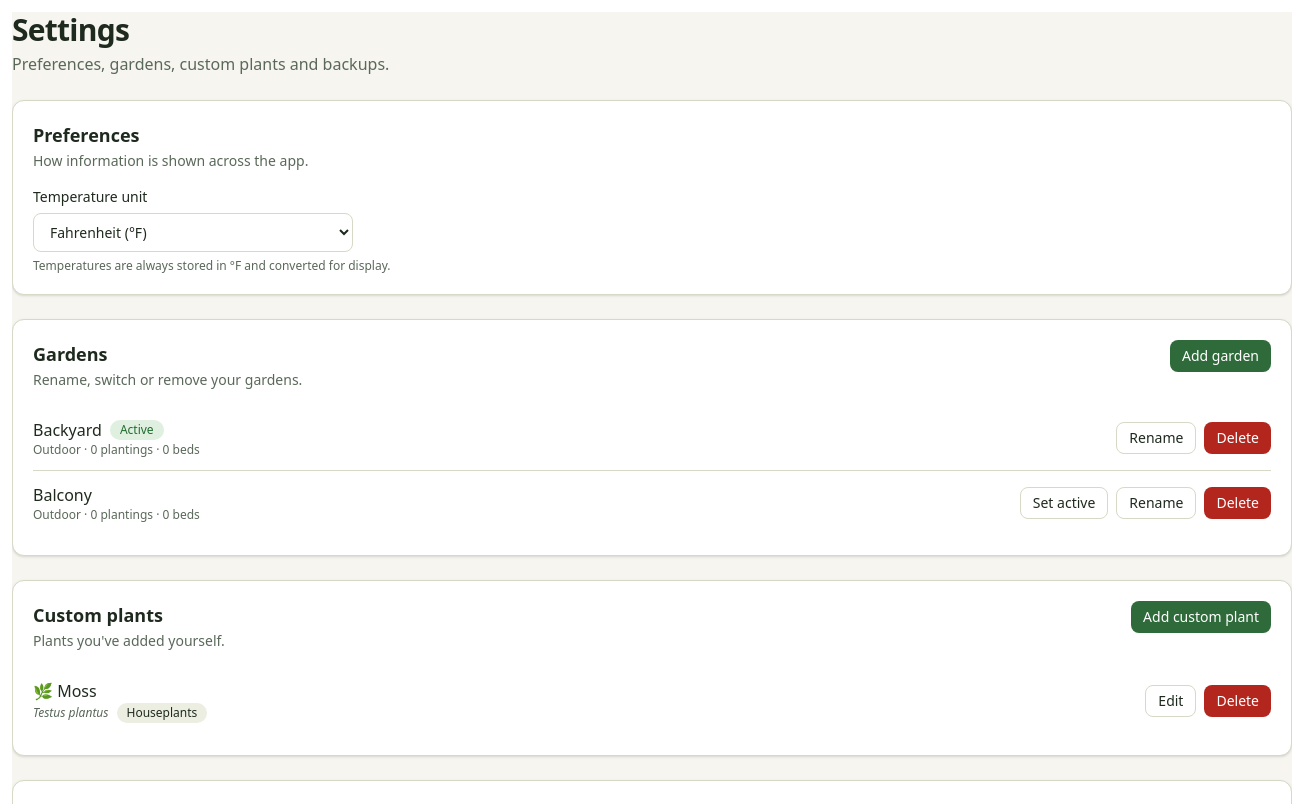
Test: SettingsPage › gardens › renames a garden and can cancel
Click the button with aria-label "Rename Backyard": {"x": 1156, "y": 438} [1116,422,1196,454]
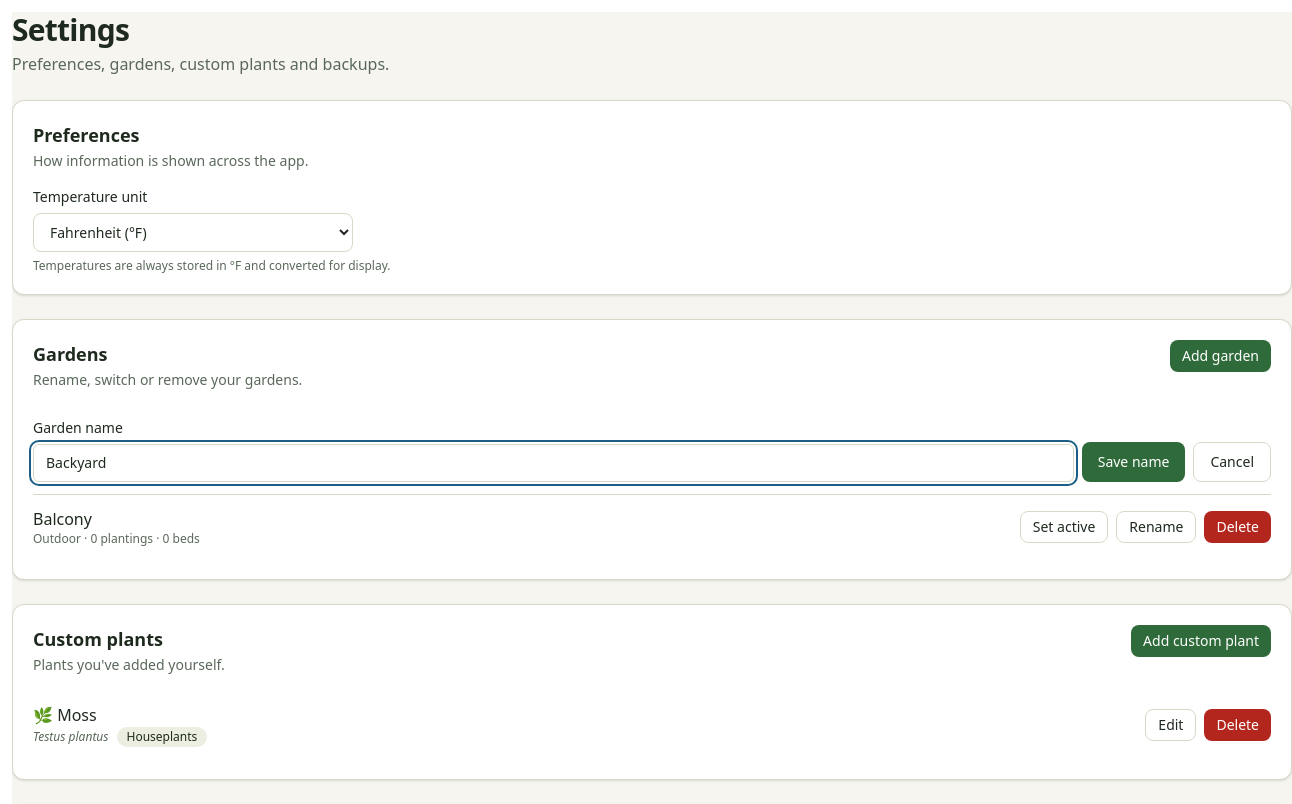
Click the button "Cancel": {"x": 1232, "y": 462} [1193,442,1271,482]
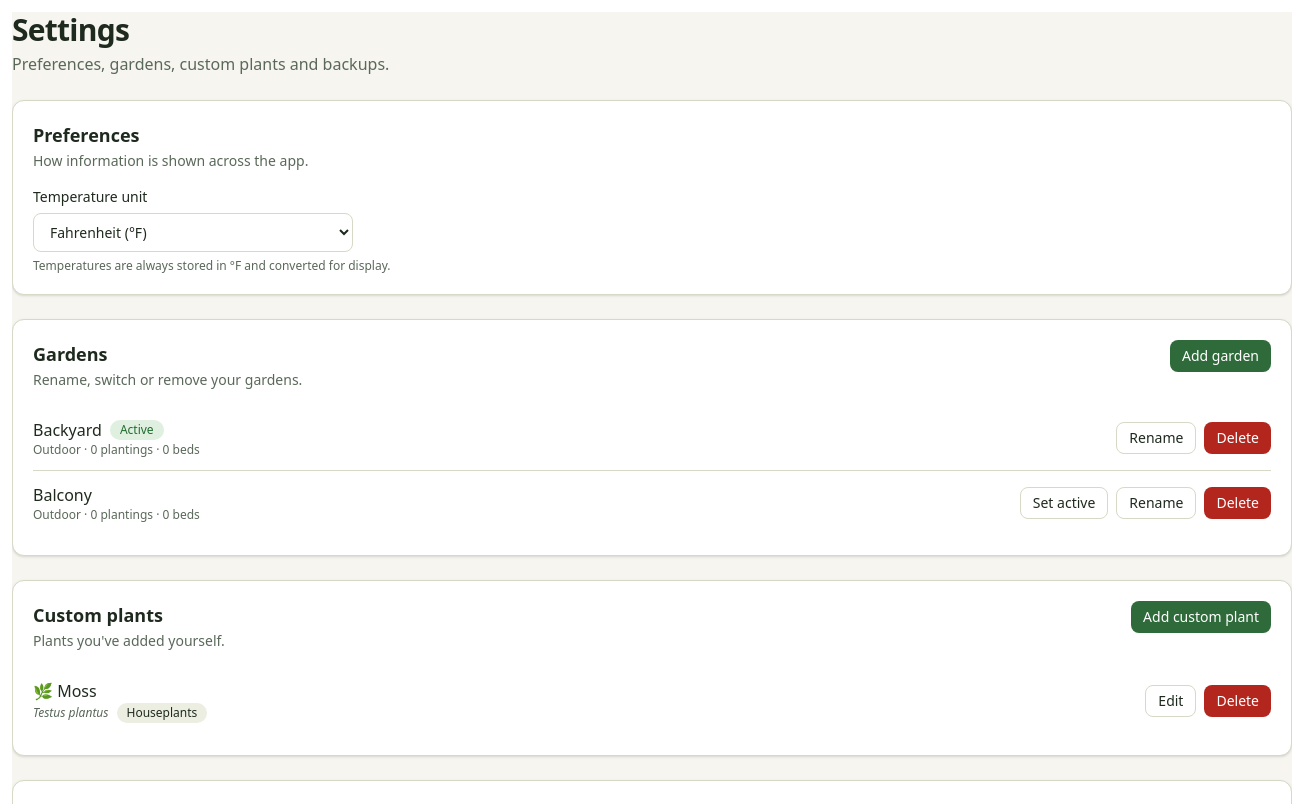
Result: the text "Backyard" is shown at [33,419,102,441]
Click the button with aria-label "Rename Backyard": {"x": 1156, "y": 438} [1116,422,1196,454]
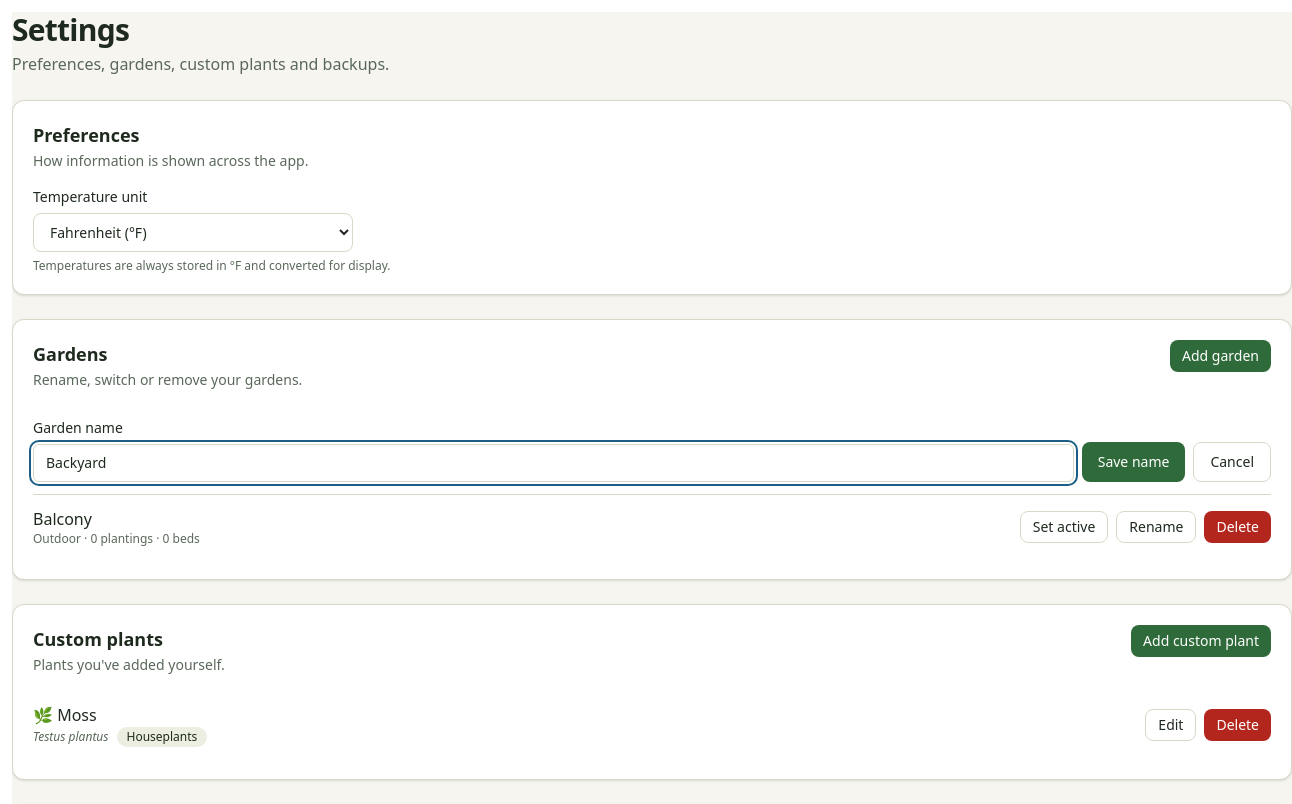
Clear the field labelled "Garden name": {"x": 553, "y": 463} [33,444,1074,482]
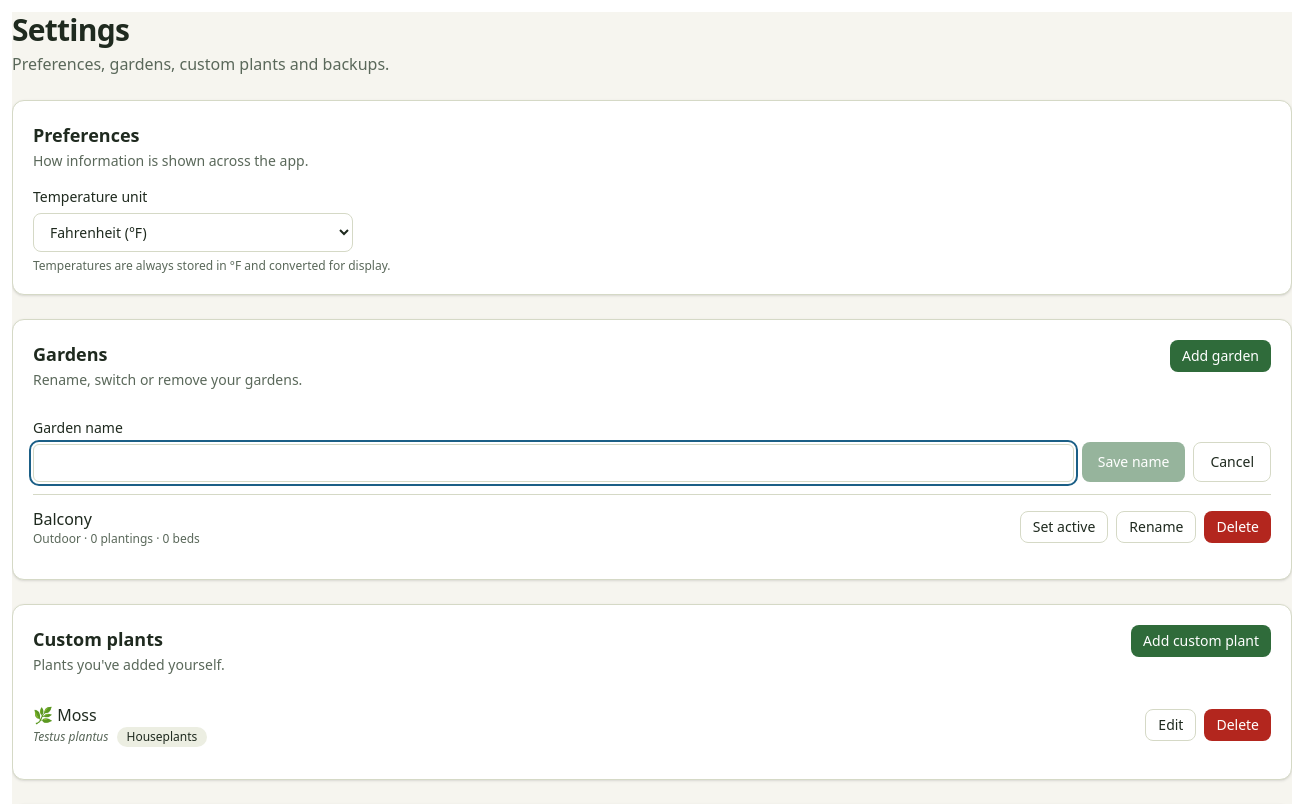
Result: the button "Save name" is disabled at [1082,442,1185,482]
In the field labelled "Garden name": {"x": 553, "y": 463} [33,444,1074,482], type "Front yard"
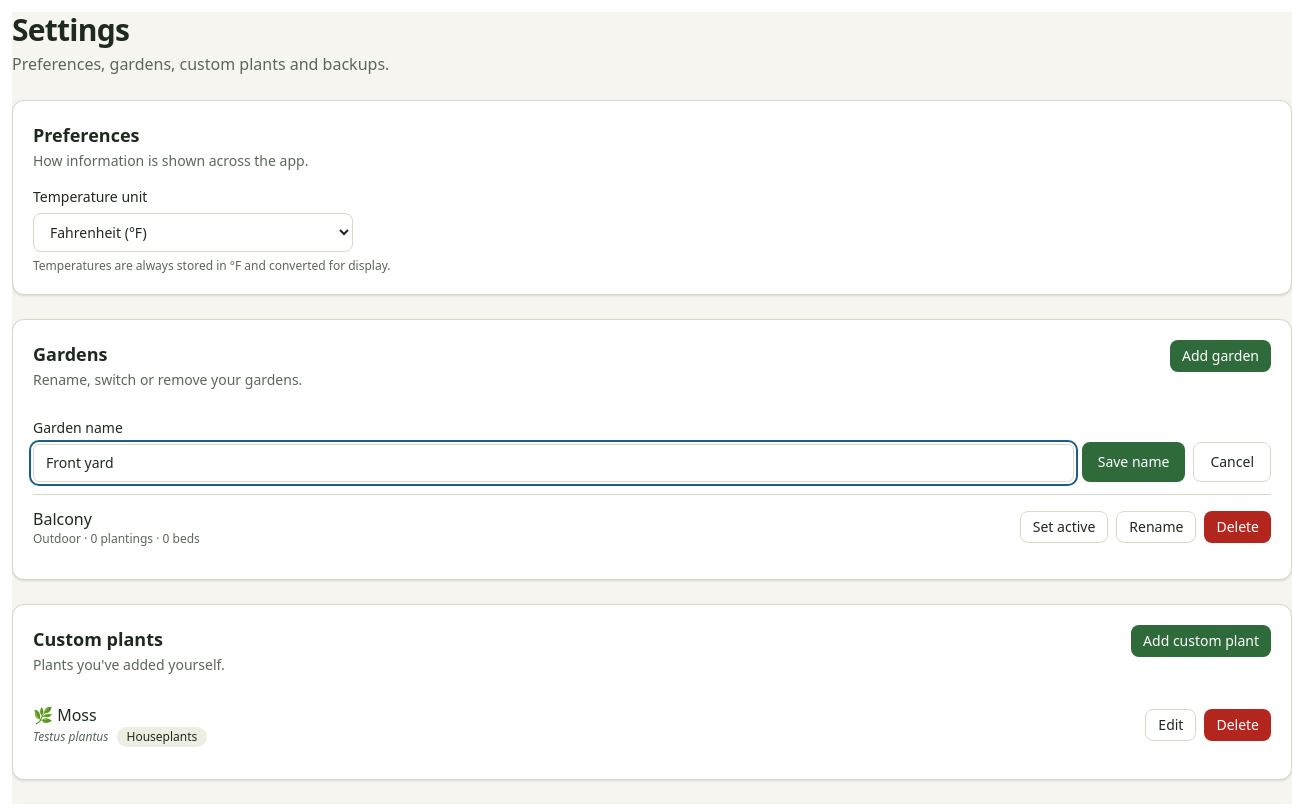
Click the button "Save name": {"x": 1134, "y": 462} [1082,442,1185,482]
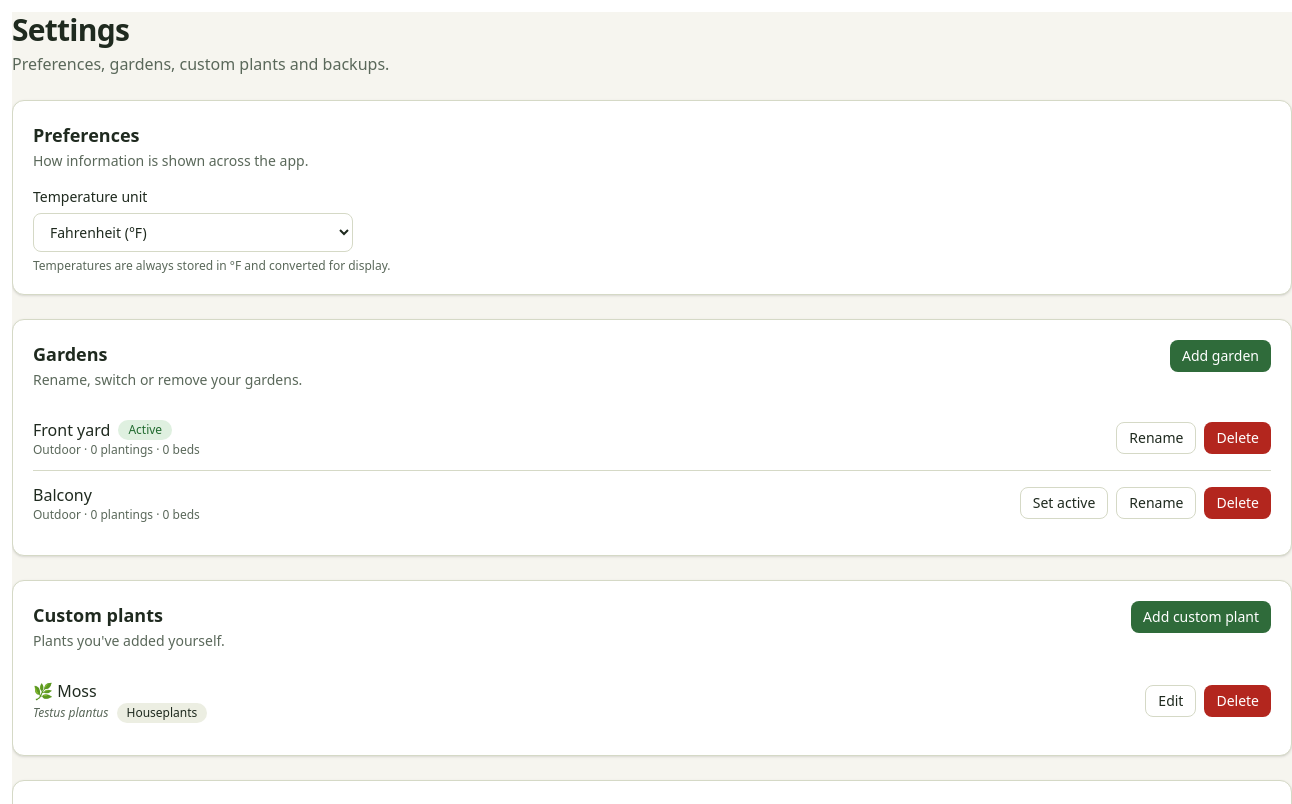
Result: the text "Front yard" is shown at [33,419,110,441]
